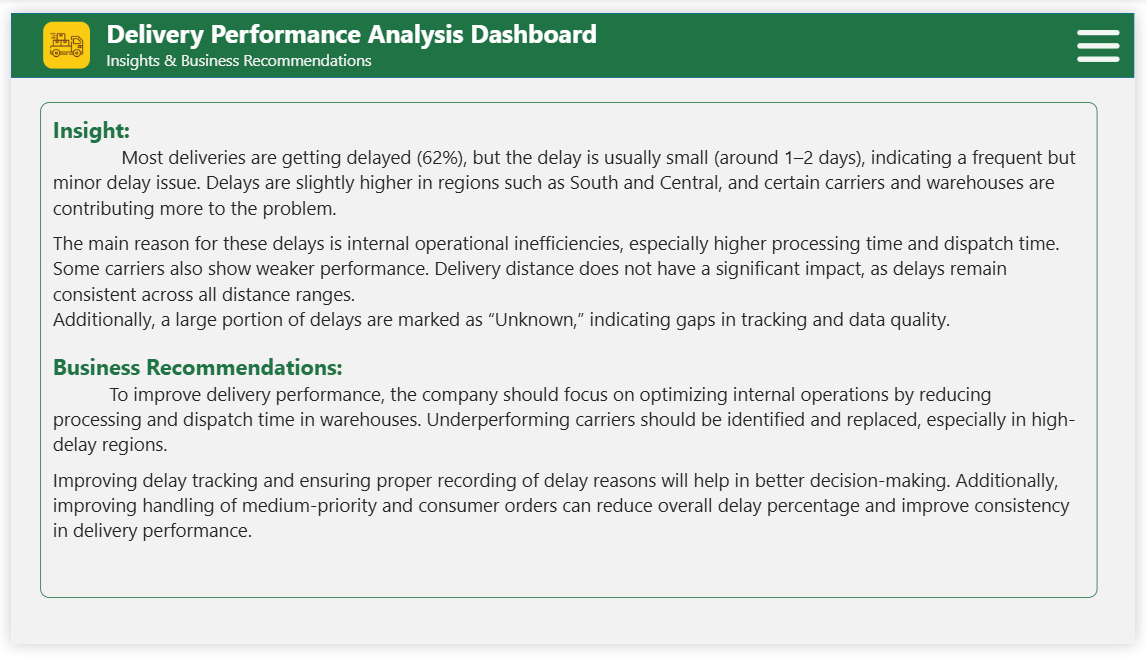

The dashboard page shown, as its layout file describes it:
{"tool":"powerbi","page":{"name":"Insights & Action","canvas":[1920,1080],"ordinal":2},"visuals":[{"type":"textbox","box":[50,152.5,1807.5,847.5],"z":0},{"type":"shape","title":"Title Bg Box","box":[0,0,1920,110.9],"z":1000},{"type":"textbox","title":"Title Box","box":[150,0,1100,110],"z":2000},{"type":"image","title":"Logo ","box":[56,16,80,80],"z":3000},{"type":"image","title":"Menu Icon","box":[1822,20,72.5,72.5],"z":4000}]}

Visuals, with their boxes in screenshot pixels (x1, y1, x2, y2), scaled from the page's 1920x1080 canvas onto the 1146x658 screenshot:
textbox: x1=30, y1=93, x2=1109, y2=609
"Title Bg Box" shape: x1=0, y1=0, x2=1145, y2=68
"Title Box" textbox: x1=90, y1=0, x2=746, y2=67
"Logo " image: x1=33, y1=10, x2=81, y2=58
"Menu Icon" image: x1=1088, y1=12, x2=1131, y2=56
